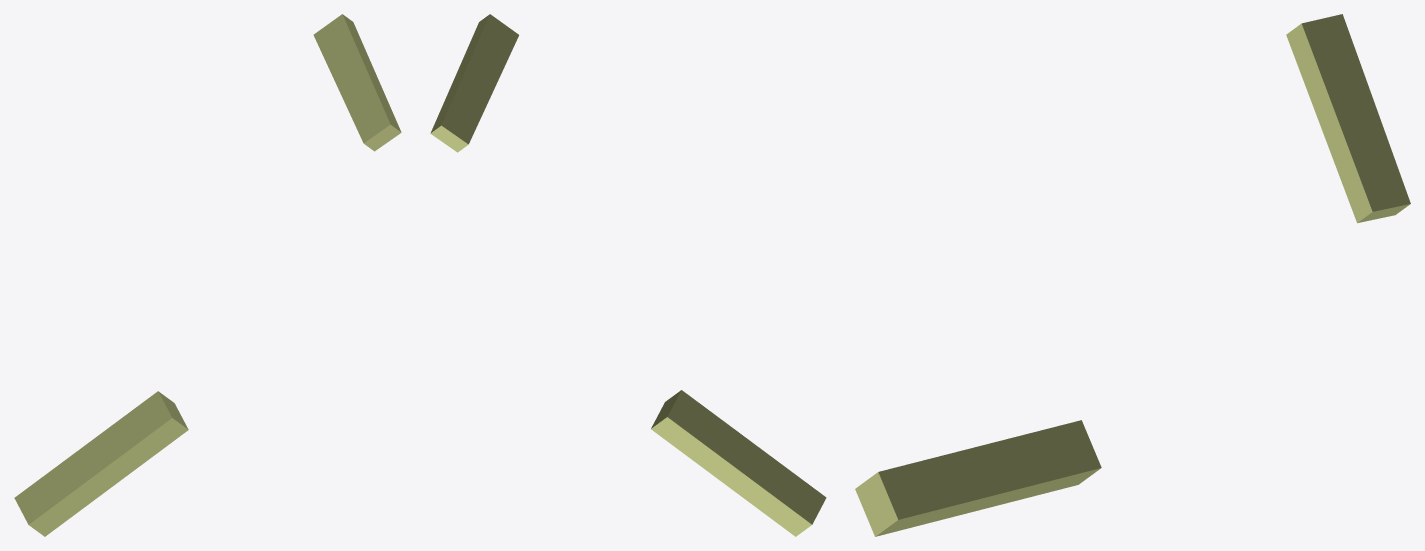
3 views of the same model, side by side, from view 1: azimuth 30°, elevation 25°; view 2: azimuth 150°, elevation 25°; view 3: azimuth 330°, elevation 25° (orthographic). The views are drawn at different scales.
Visible parts, largest first — view 1: 0_1_0_2_0_2_1; view 2: 0_1_0_2_0_2_1; view 3: 0_1_0_2_0_2_1.
Part boxes in pixels (x1,y1,x2,y2): 0_1_0_2_0_2_1: [14, 14, 401, 536]; 0_1_0_2_0_2_1: [430, 14, 826, 536]; 0_1_0_2_0_2_1: [855, 14, 1410, 536].
Bounding box in the file's own units: 119 × 131 × 9.07.
